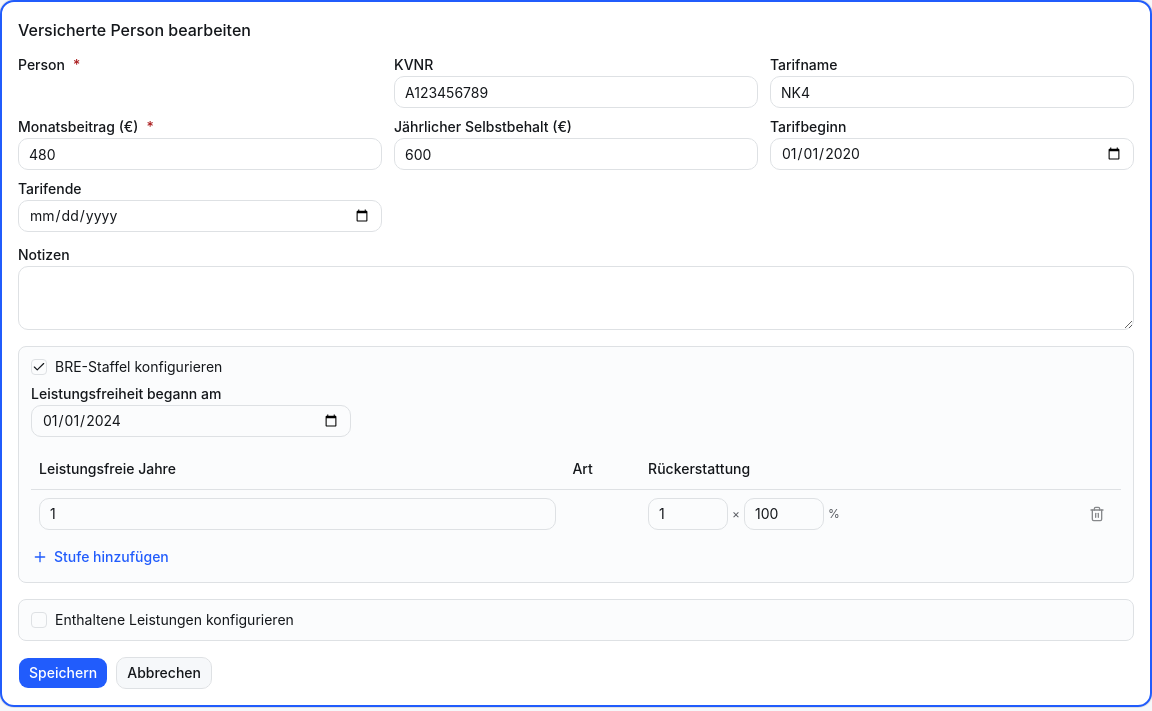
Scenario: InsuredPersonForm › surfaces a failing save without losing the form
Click the button "Speichern": point(63, 672) [18,656,108,688]
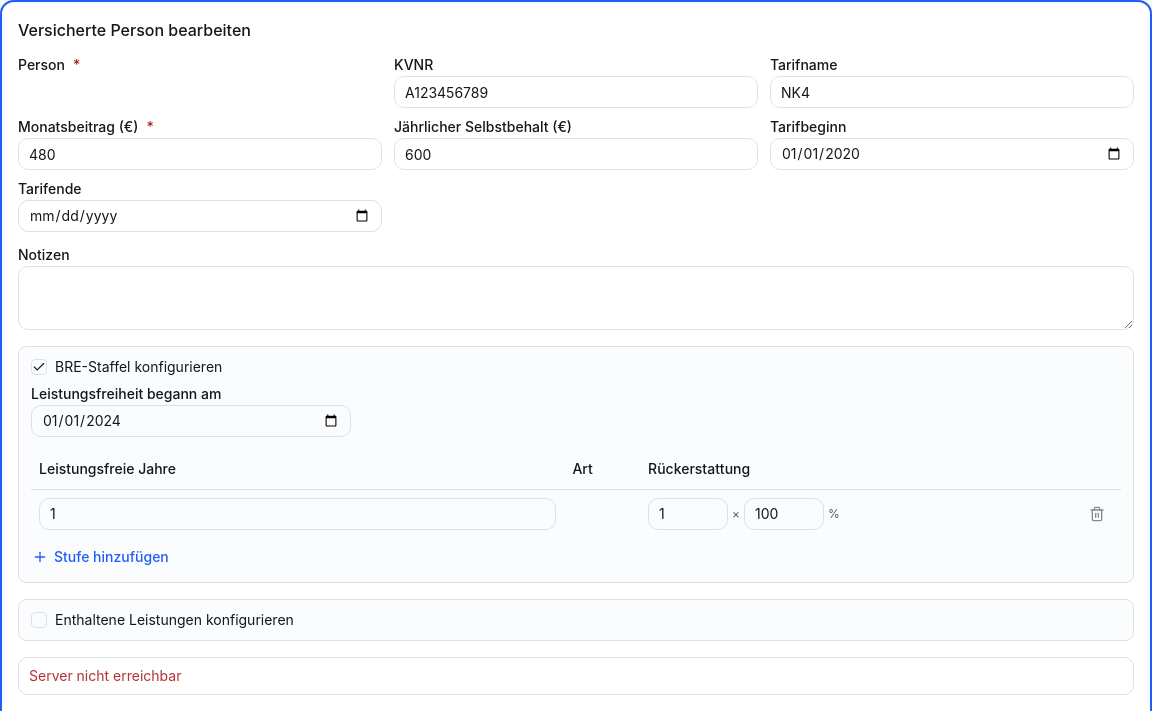
Expected: the field labelled "KVNR" holds "A123456789", [394,76,758,108]
Now the text "Server nicht erreichbar" is shown, box [29,666,181,684]
